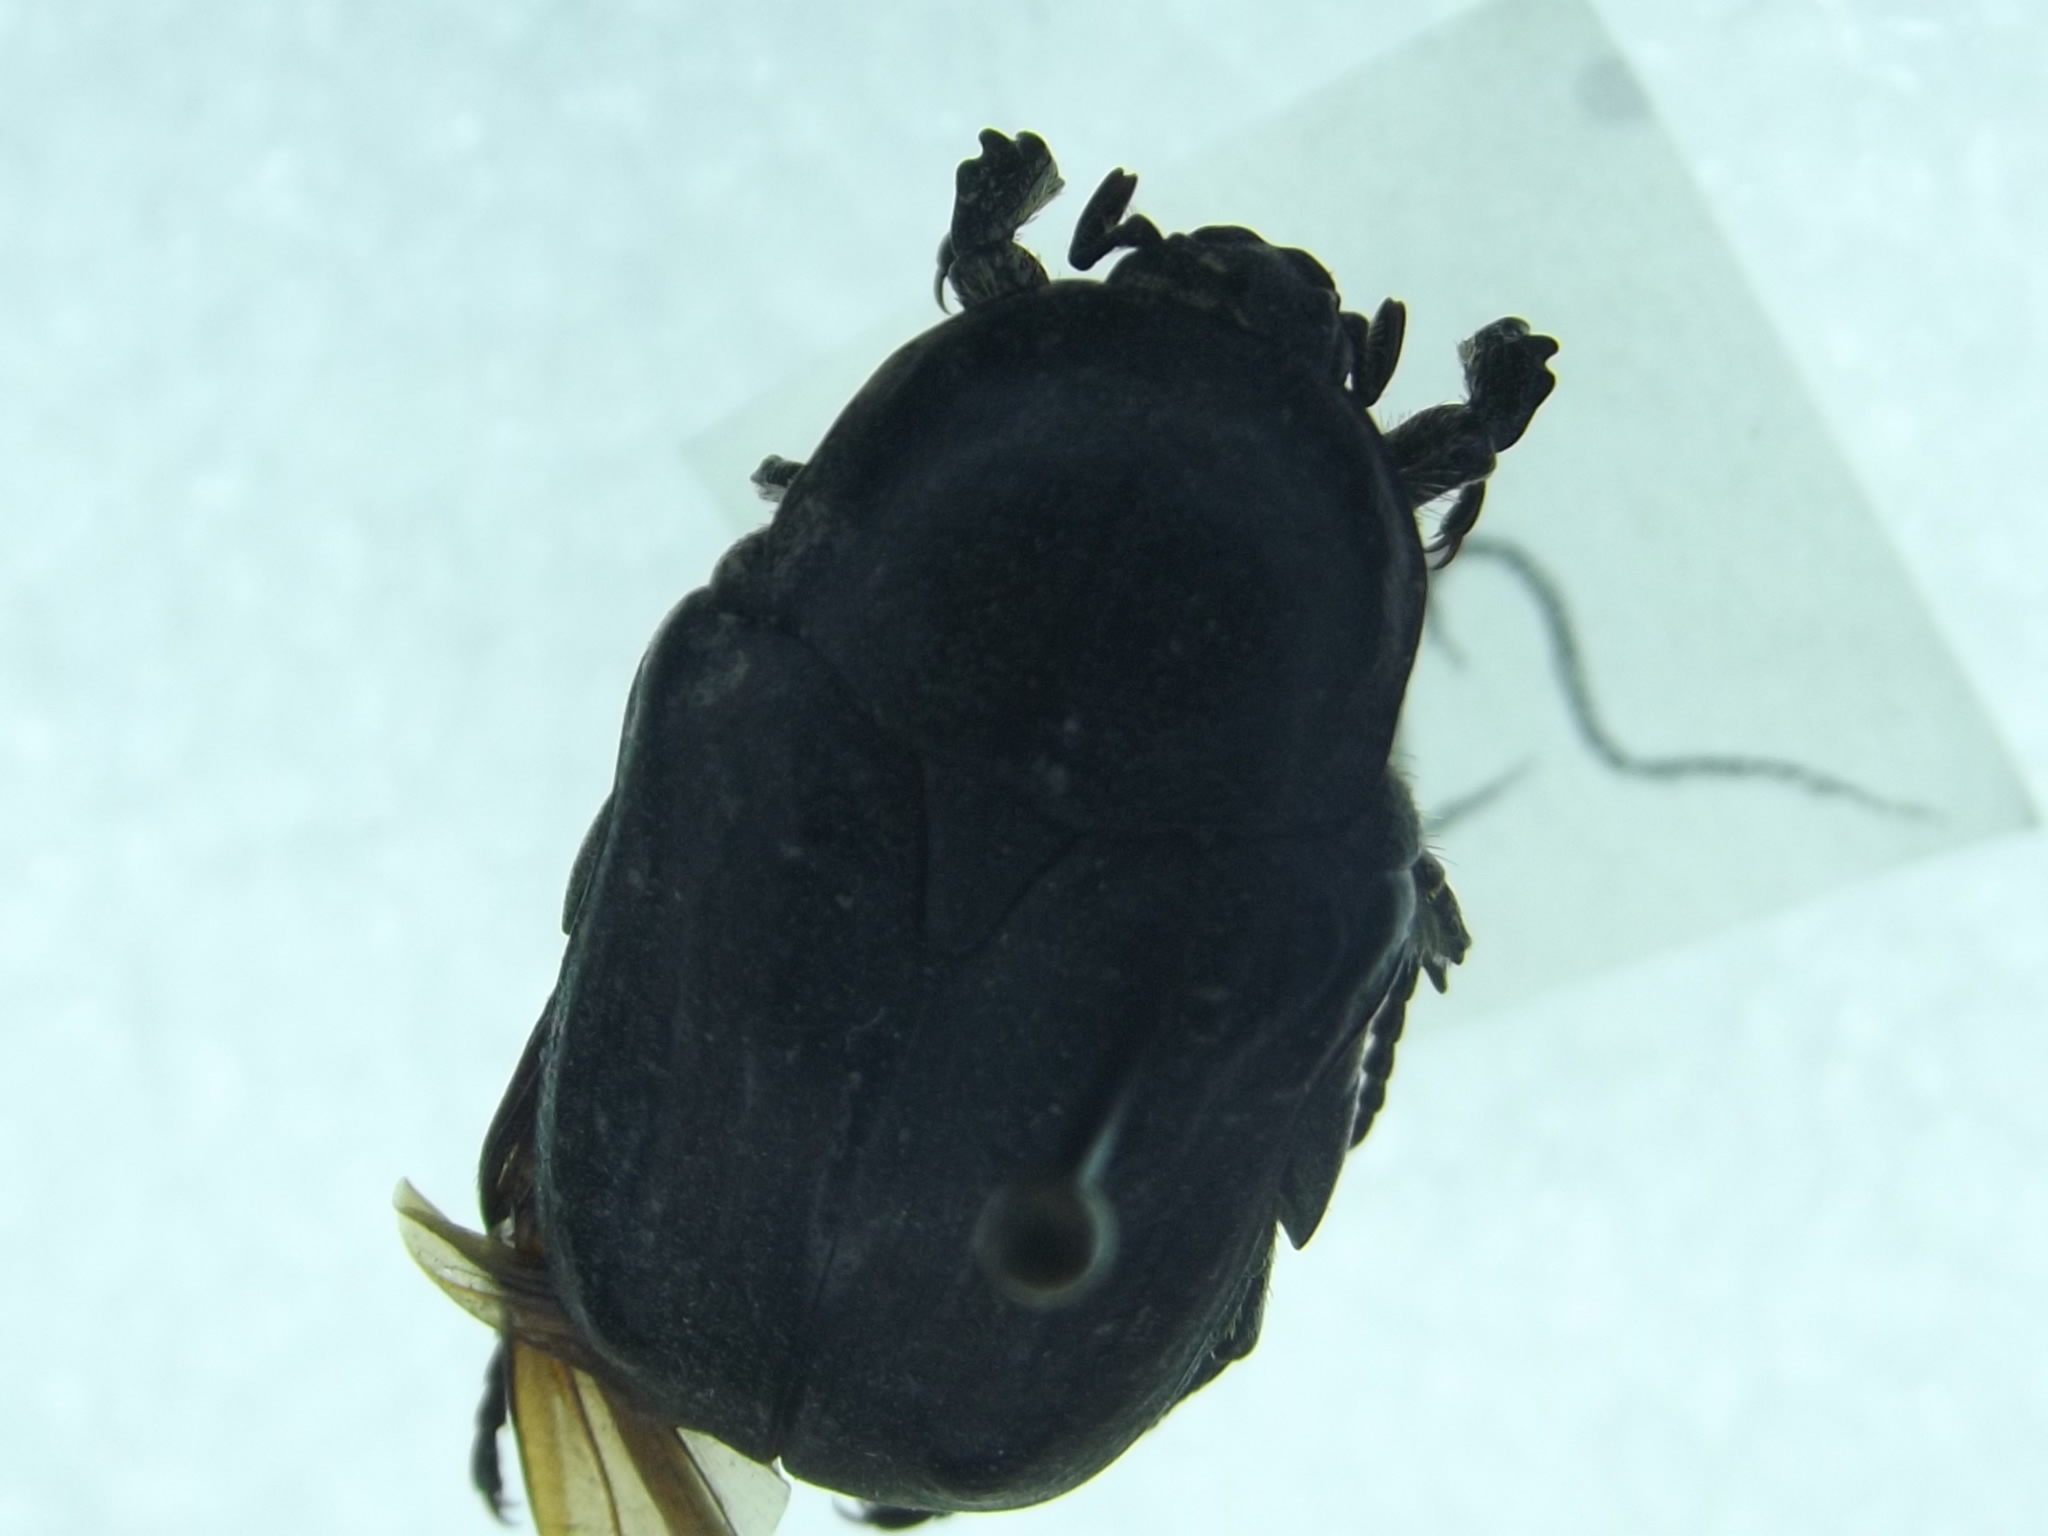Protaetia_asiatica: (305, 58, 1625, 1536)
